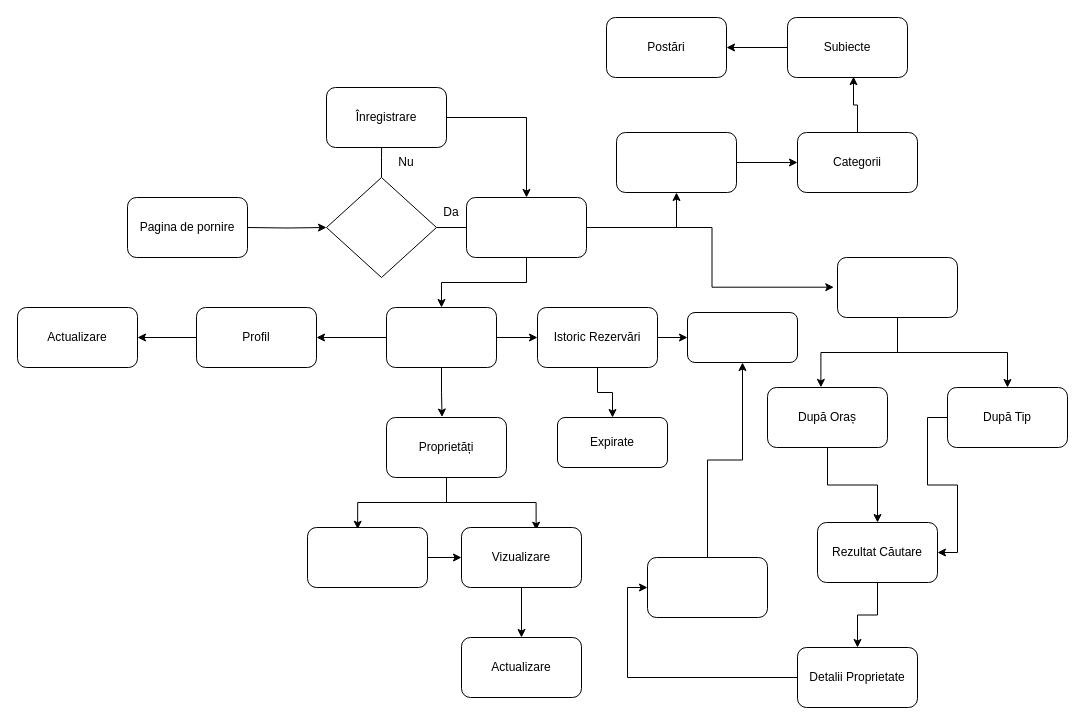
This 1085x725 diagram has some shape labels left out. The box of each missing label's shape, as (x1, y1, x2, y2) in pixels:
Adaugare: (306, 526, 428, 588)
Cont existent?: (326, 176, 436, 278)
Căutare: (836, 256, 958, 318)
Forum: (616, 132, 736, 192)
Meniu: (386, 306, 496, 368)
Pagina Principală: (466, 196, 586, 258)
Rezervare: (646, 556, 768, 618)
În desfășurare: (686, 312, 798, 362)
